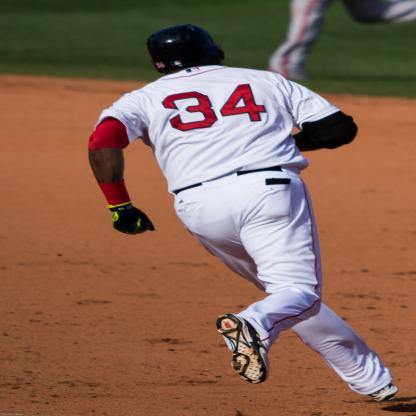Helmet: (141, 24, 230, 68)
